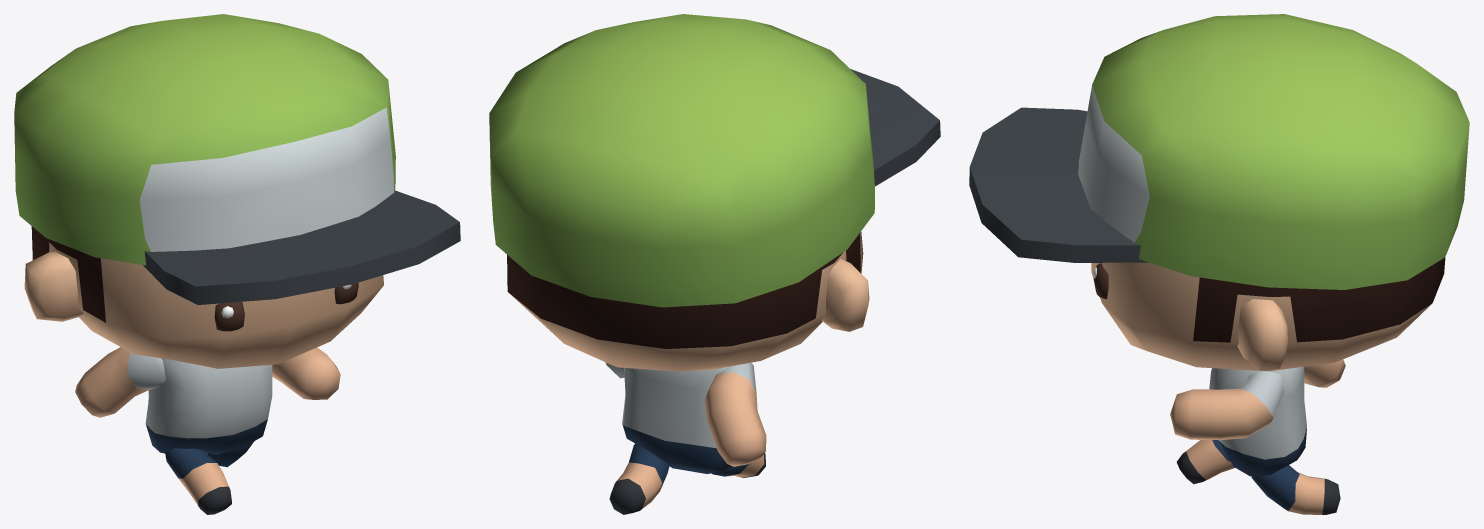
File: run_0009.obj
The picture shows the model from 3 angles, left to right: view 1: azimuth 30°, elevation 25°; view 2: azimuth 150°, elevation 25°; view 3: azimuth 270°, elevation 25°; orthographic projection. The views are drawn at different scales.
Parts seen in each view (by area): view 1: Object_41, Object_42, Object_36, Object_44, Object_38; view 2: Object_41, Object_36, Object_44, Object_42; view 3: Object_41, Object_36, Object_42, Object_44.
Part boxes in pixels (<box>): Object_41: <box>14,14,395,265</box>; Object_42: <box>139,107,460,304</box>; Object_36: <box>24,226,383,368</box>; Object_44: <box>75,347,340,514</box>; Object_38: <box>214,283,358,331</box>; Object_41: <box>489,14,874,307</box>; Object_36: <box>507,231,869,371</box>; Object_44: <box>605,362,766,514</box>; Object_42: <box>850,69,940,186</box>; Object_41: <box>1092,14,1469,289</box>; Object_36: <box>1091,257,1445,371</box>; Object_42: <box>969,85,1149,262</box>; Object_44: <box>1170,359,1345,514</box>.
Bounding box in the file's own units: 0.9691 × 1.15 × 1.14.
